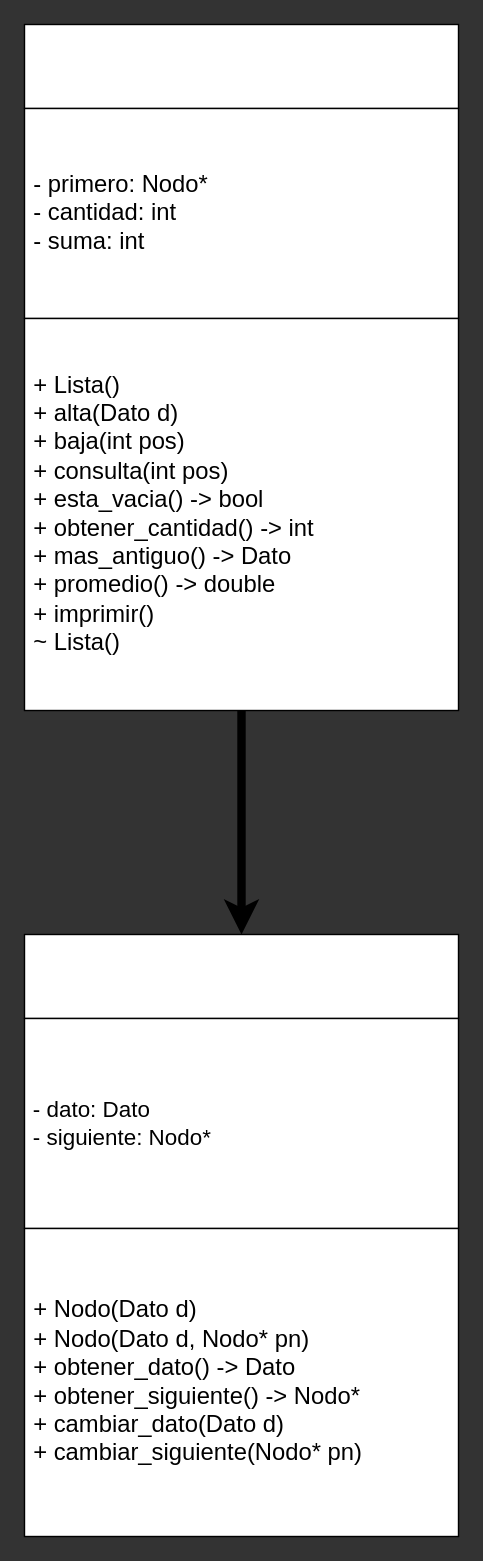
This 483x1561 diagram has some shape labels left out. The shapes that lost their labels are listed below. From the top down, each one's centre as x and y in pixels, then its label:
[240,65]: Lista Circular
[240,975]: Nodo
